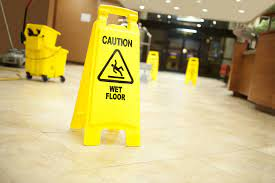wet caution sign: (73, 0, 146, 158), (181, 54, 208, 94), (140, 50, 164, 80)
